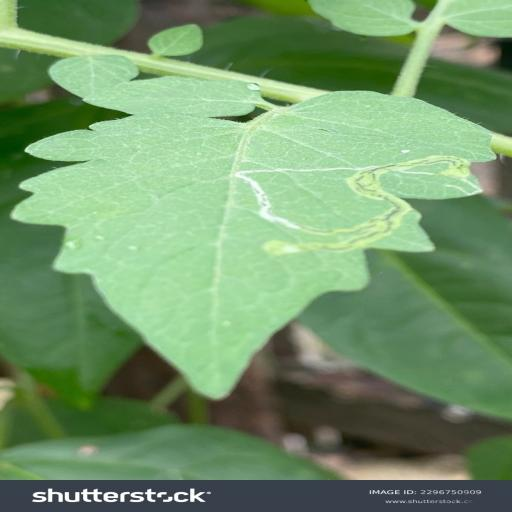disease_tomato: (0, 90, 512, 404)
